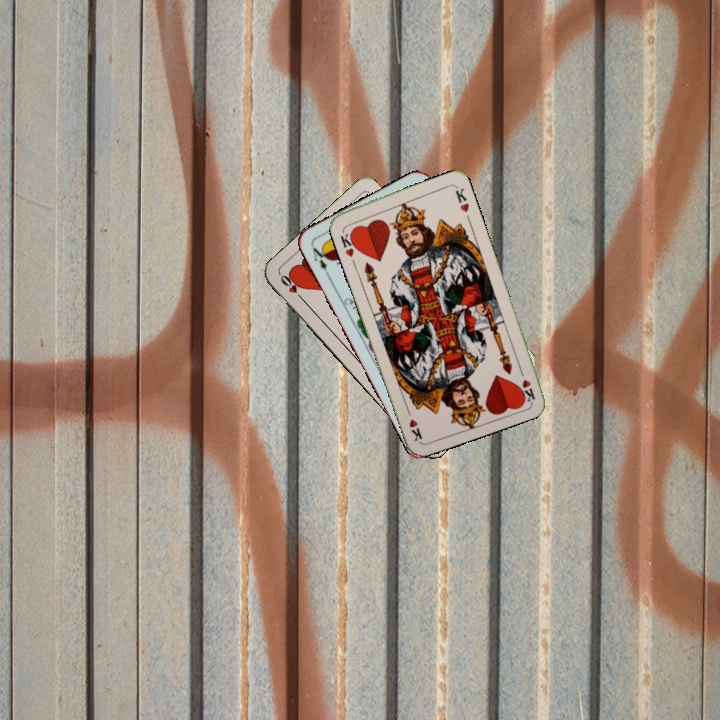EA: (308, 241, 332, 279)
HK: (515, 363, 538, 403), (336, 225, 361, 259)
HO: (276, 271, 307, 304)
